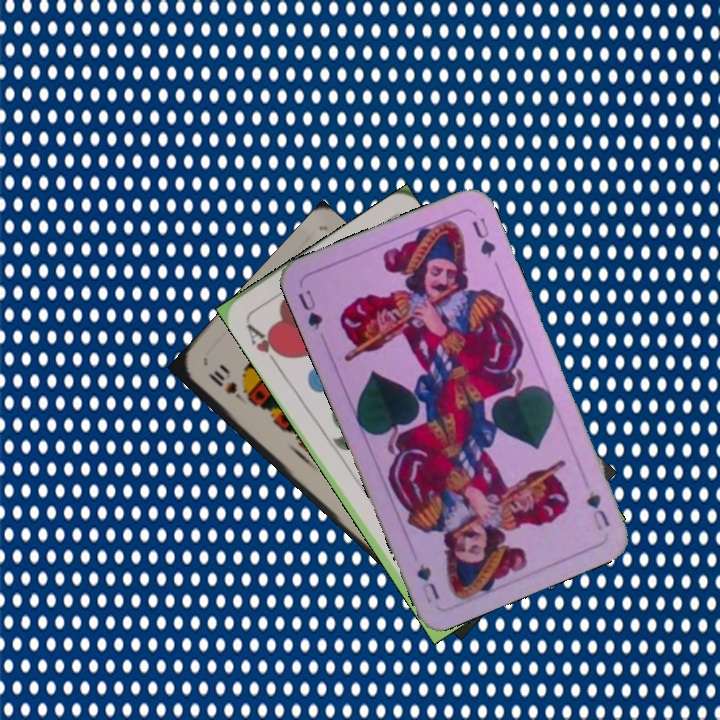GU: (293, 286, 326, 333), (582, 487, 613, 533)
HA: (242, 317, 288, 369)
S10: (204, 366, 251, 407)
